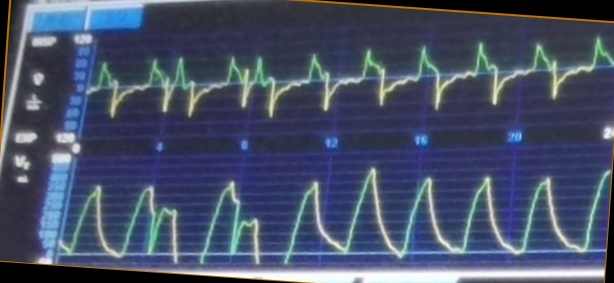Double_Triggering Flow: (97, 33, 614, 121)
Double_Triggering Volume: (73, 165, 604, 265)
